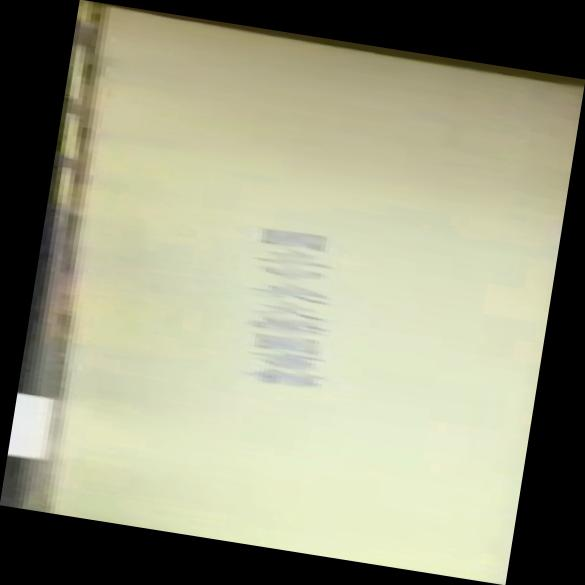backward: (1, 1, 581, 584)
